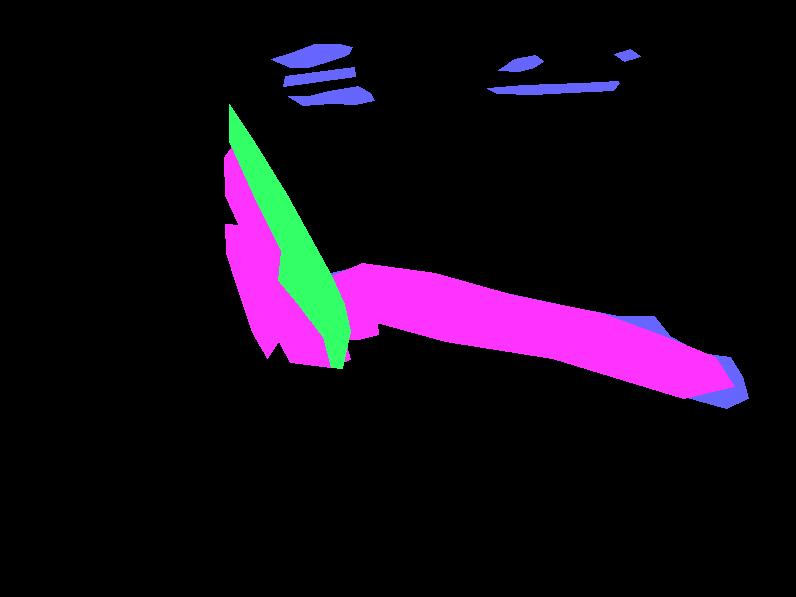Broken part: (229, 104, 350, 368)
Dent: (322, 263, 734, 398), (224, 135, 350, 367), (225, 224, 279, 358), (333, 297, 378, 339)
Scratch: (324, 264, 748, 408), (319, 277, 686, 367), (271, 44, 352, 67), (487, 81, 619, 94), (288, 86, 374, 105), (283, 67, 355, 86), (498, 55, 543, 71), (614, 49, 640, 61), (615, 51, 635, 58)
